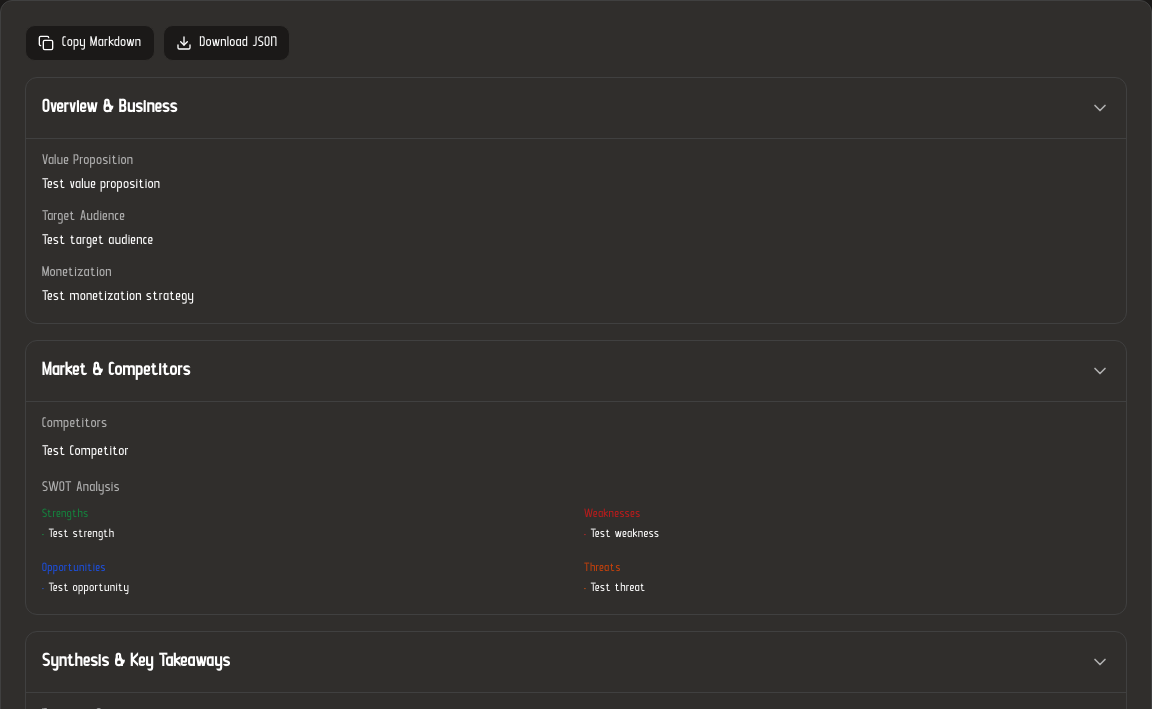
StructuredReport Section Collapsible Functionality › should collapse and expand synthesis section when clicked
Click to collapse
Click the button "Synthesis & Key Takeaways" at (136, 662), box [26,632,1126,692]
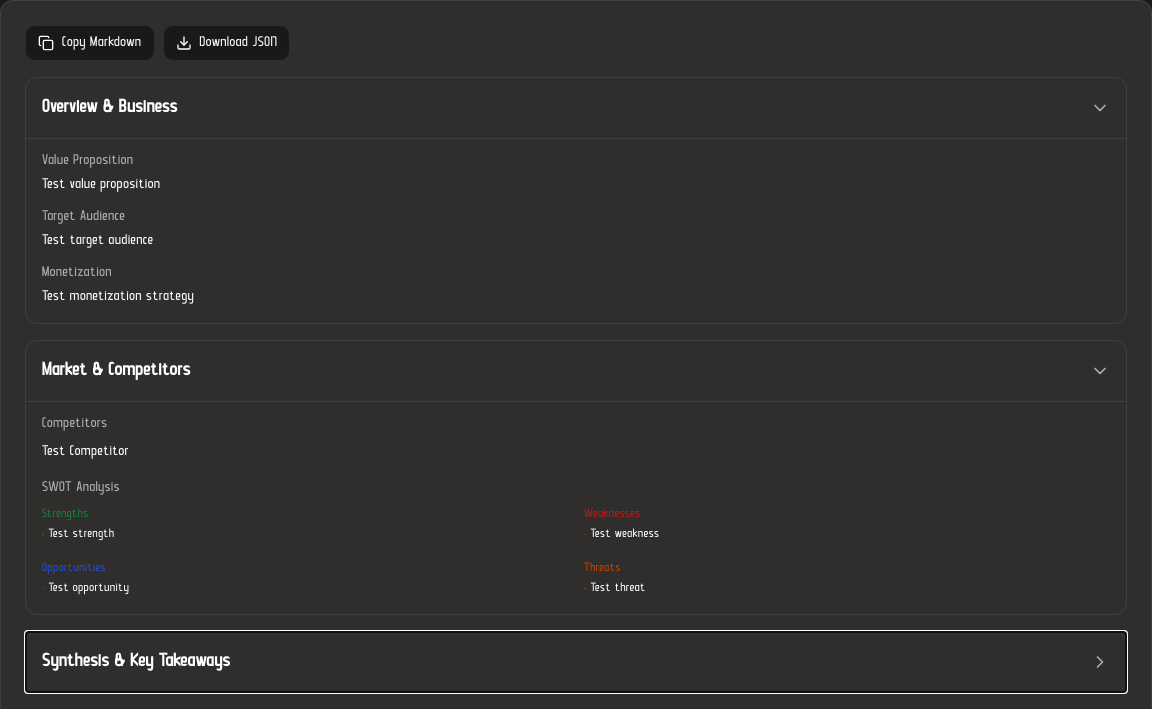
Click to expand again
Click the button "Synthesis & Key Takeaways" at (136, 662), box [26,632,1126,692]
(page scrolled)
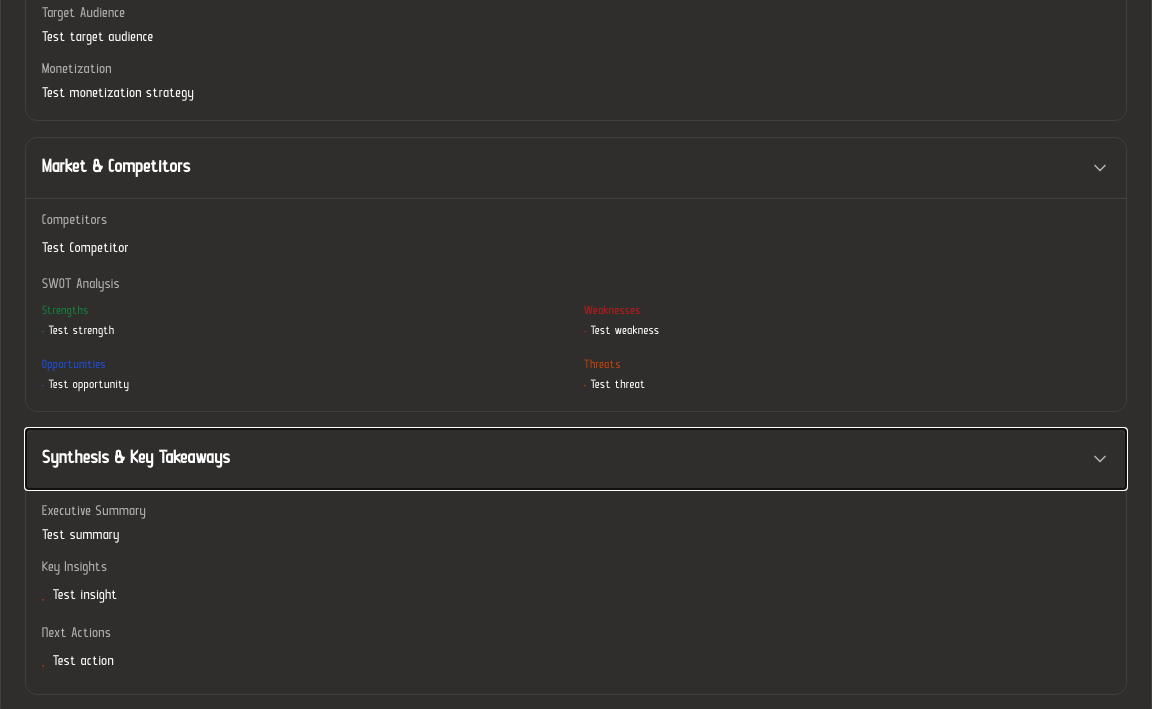
expect the text "Test summary" is shown: met, box [42,529,120,543]
